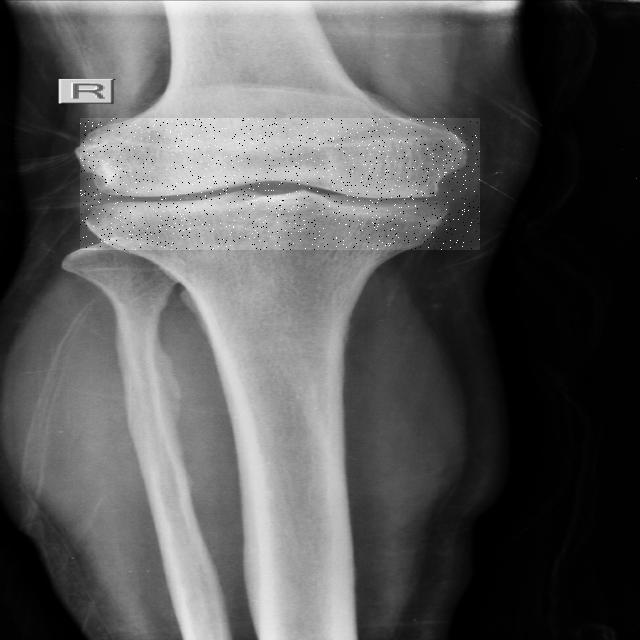normal: (80, 118, 480, 250)
